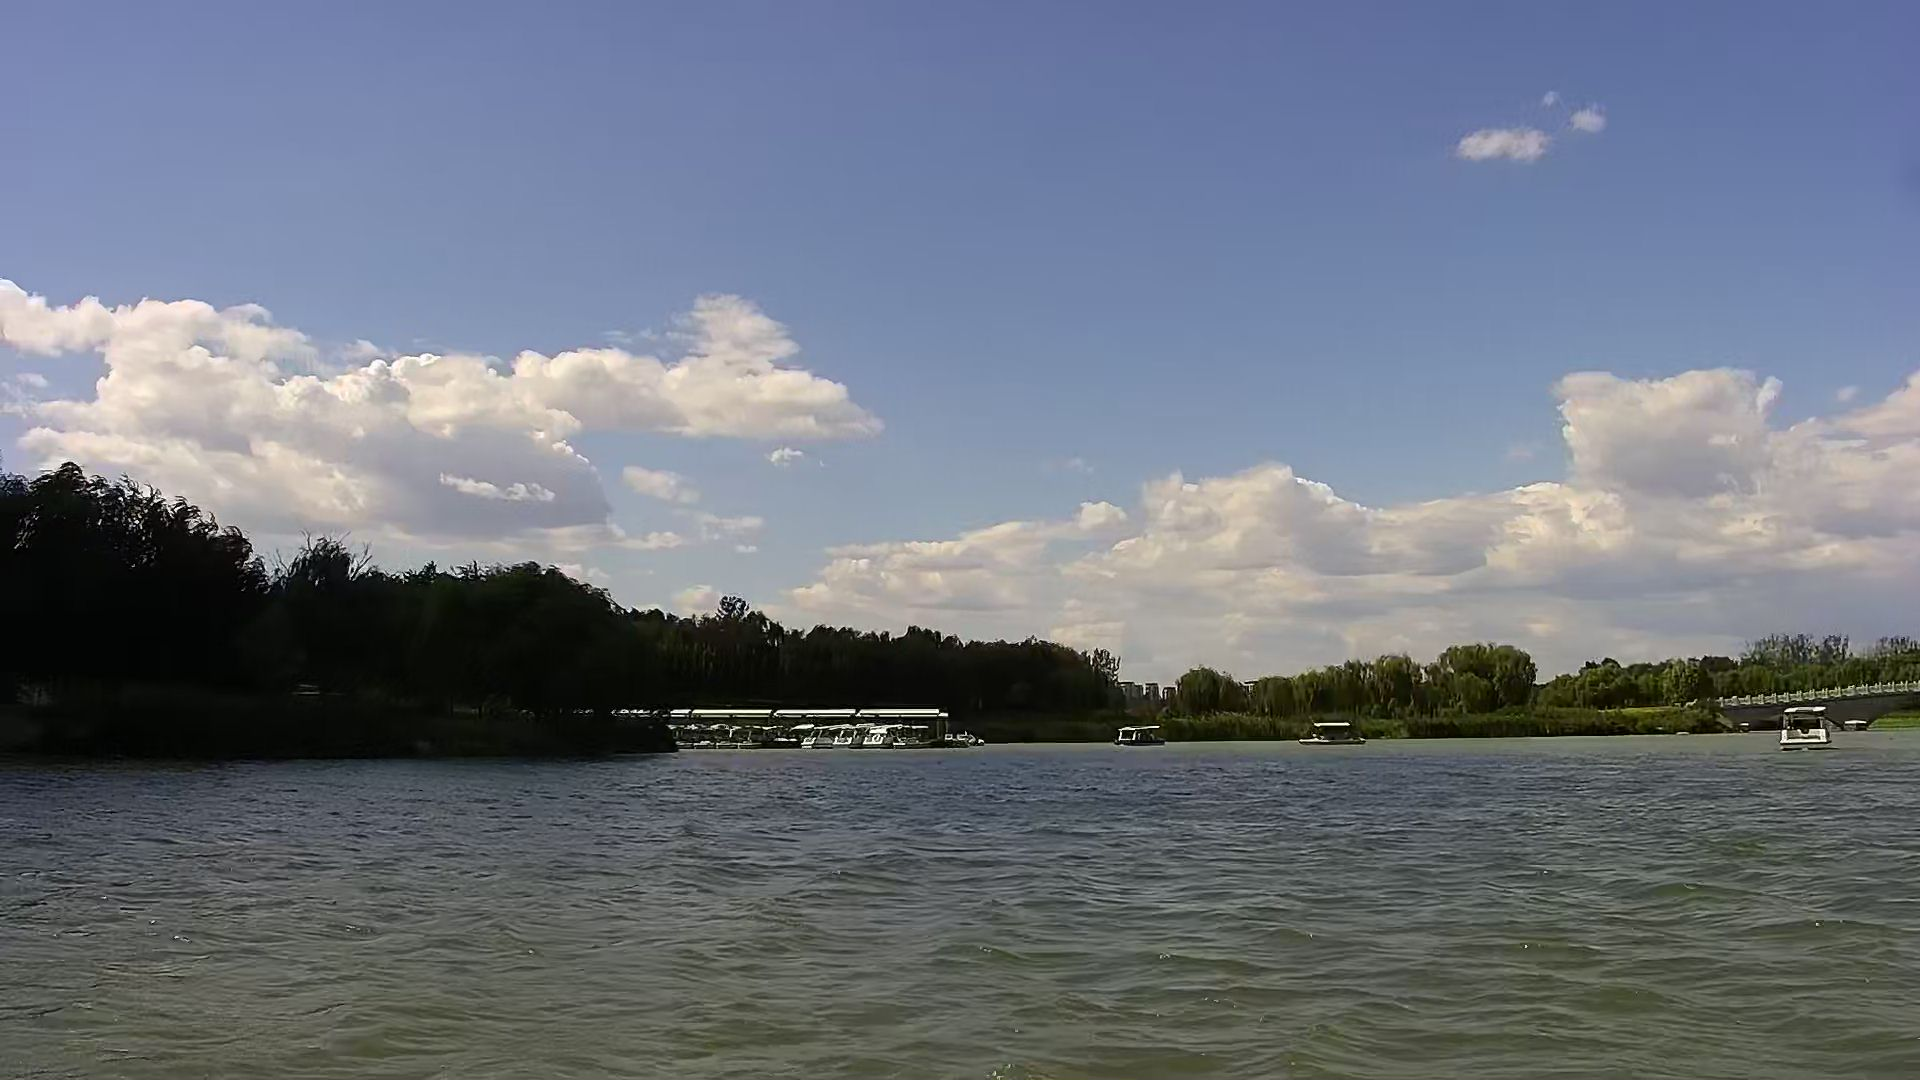boat: (861, 717, 935, 764), (1778, 700, 1840, 753), (1299, 716, 1366, 746), (1114, 721, 1174, 752), (773, 717, 815, 756), (831, 713, 866, 752), (807, 723, 835, 754)
bridge: (1705, 678, 1919, 728)
